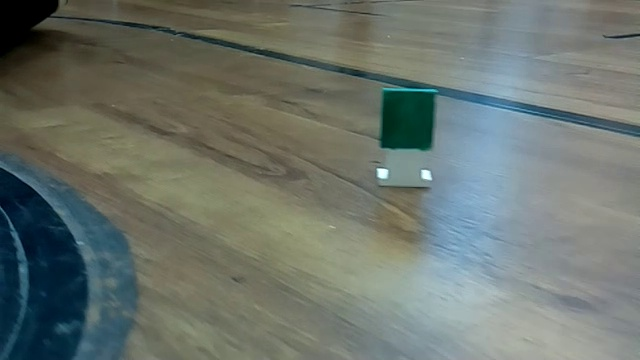rect: (362, 80, 457, 192)
